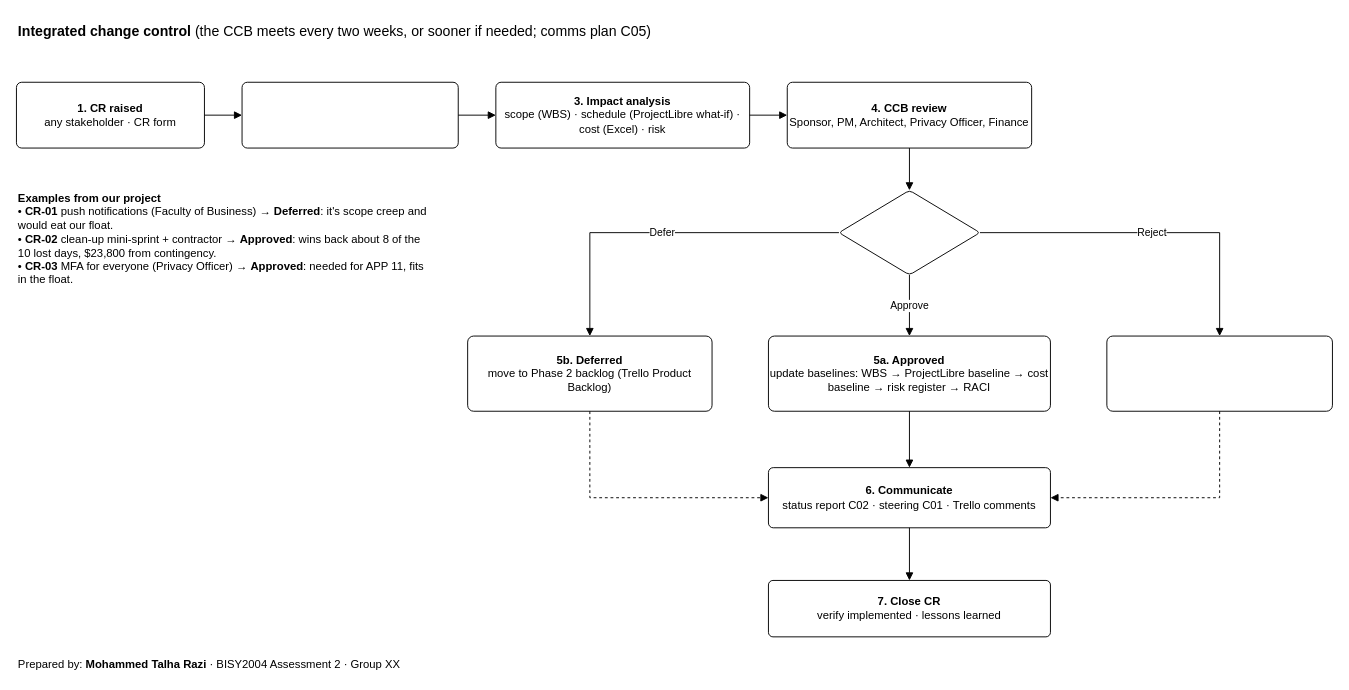
Some shapes in this 1349 by 690 pixel diagram are drawn without their labels. Each missing label, with the box of its shape:
2. Log Change_Log (Excel) + Trello 'Change request' label: (241, 81, 458, 148)
5c. Rejected requester told with rationale: (1106, 335, 1332, 411)
Decision?: (838, 189, 980, 275)
